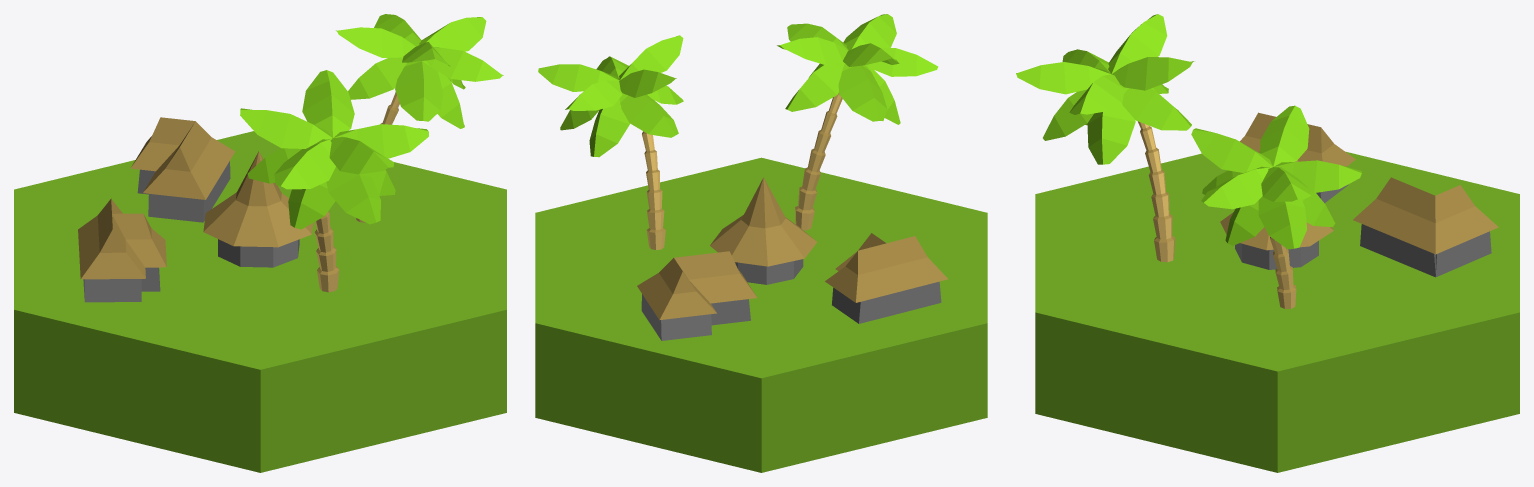
File: Casas_Palmeras_3.fbx
3 renders of one model, left to right at view 1: azimuth 30°, elevation 25°; view 2: azimuth 150°, elevation 25°; view 3: azimuth 270°, elevation 25°, orthographic. The views are drawn at different scales.
Visible parts, largest first — view 1: Casas_Palmeras_3; view 2: Casas_Palmeras_3; view 3: Casas_Palmeras_3.
Boxes of the visible parts, <box> form: Casas_Palmeras_3: <box>14,14,506,472</box>; Casas_Palmeras_3: <box>535,14,987,472</box>; Casas_Palmeras_3: <box>1016,14,1519,472</box>.
Bounding box in the file's own units: 200 × 120 × 180.
